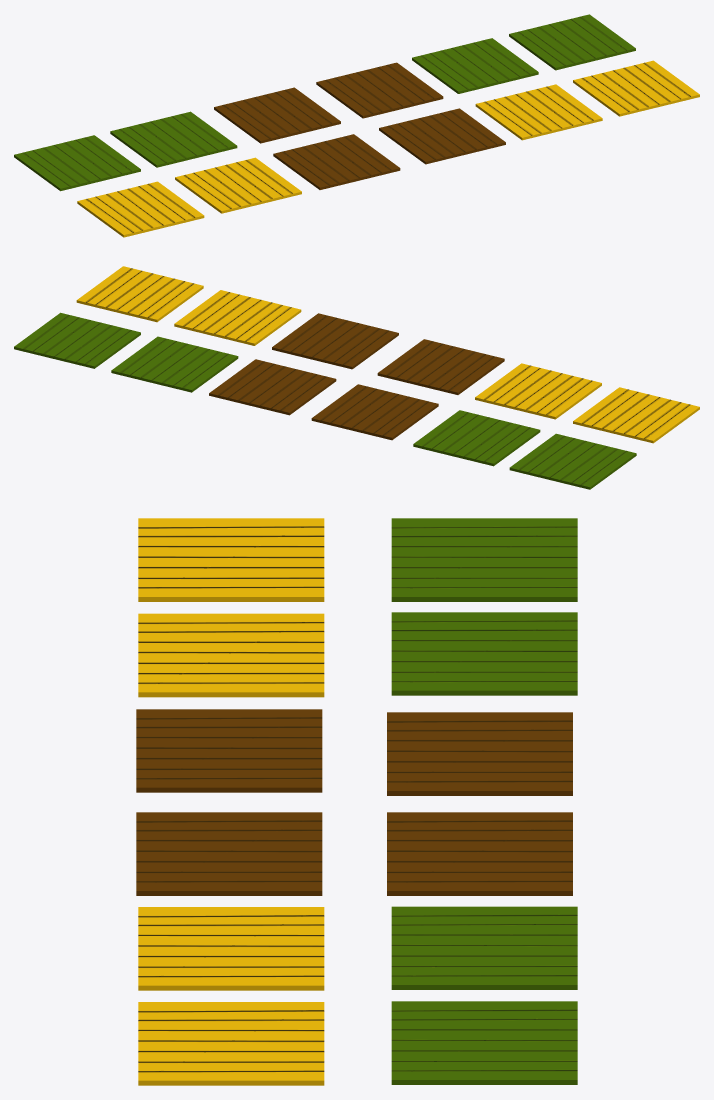
File: Cultivos.glb
The picture shows the model from 3 angles, top to bottom: view 1: azimuth 30°, elevation 25°; view 2: azimuth 150°, elevation 25°; view 3: azimuth 270°, elevation 25°; orthographic projection. The views are drawn at different scales.
Visible parts, largest first — view 1: Cultivo_Trigo.004, Cultivo_Trigo.002, Cultivo_Calabaza.004, Cultivo_Trigo.001, Cultivo_Calabaza.002, Cultivo_Trigo.003, Cultivo_Frijol.003, Cultivo_Frijol.005, Cultivo_Calabaza.003, Cultivo_Frijol.002, Cultivo_Calabaza.001, Cultivo_Frijol.004; view 2: Cultivo_Calabaza.004, Cultivo_Trigo.001, Cultivo_Trigo.002, Cultivo_Frijol.003, Cultivo_Frijol.004, Cultivo_Frijol.002, Cultivo_Calabaza.001, Cultivo_Calabaza.002, Cultivo_Frijol.005, Cultivo_Trigo.003, Cultivo_Calabaza.003, Cultivo_Trigo.004; view 3: Cultivo_Trigo.003, Cultivo_Trigo.001, Cultivo_Trigo.002, Cultivo_Trigo.004, Cultivo_Frijol.002, Cultivo_Frijol.003, Cultivo_Frijol.005, Cultivo_Calabaza.003, Cultivo_Calabaza.004, Cultivo_Frijol.004, Cultivo_Calabaza.001, Cultivo_Calabaza.002.
Boxes of the visible parts, box(x1,y1,x2,y2) form: Cultivo_Trigo.004: box(77, 181, 204, 237); Cultivo_Trigo.002: box(475, 84, 602, 140); Cultivo_Calabaza.004: box(273, 134, 400, 189); Cultivo_Trigo.001: box(573, 60, 699, 116); Cultivo_Calabaza.002: box(316, 62, 443, 118); Cultivo_Trigo.003: box(175, 157, 301, 213); Cultivo_Frijol.003: box(110, 111, 237, 167); Cultivo_Frijol.005: box(509, 14, 635, 70); Cultivo_Calabaza.003: box(379, 108, 505, 164); Cultivo_Frijol.002: box(14, 135, 140, 191); Cultivo_Calabaza.001: box(214, 87, 340, 143); Cultivo_Frijol.004: box(412, 38, 538, 93); Cultivo_Calabaza.004: box(377, 339, 504, 394); Cultivo_Trigo.001: box(76, 266, 203, 322); Cultivo_Trigo.002: box(174, 290, 301, 345); Cultivo_Frijol.003: box(413, 410, 540, 466); Cultivo_Frijol.004: box(111, 336, 238, 392); Cultivo_Frijol.002: box(509, 433, 636, 489); Cultivo_Calabaza.001: box(311, 384, 438, 440); Cultivo_Calabaza.002: box(209, 359, 336, 415); Cultivo_Frijol.005: box(14, 312, 140, 368); Cultivo_Trigo.003: box(475, 363, 601, 419); Cultivo_Calabaza.003: box(272, 313, 398, 369); Cultivo_Trigo.004: box(573, 387, 699, 443); Cultivo_Trigo.003: box(138, 613, 324, 697); Cultivo_Trigo.001: box(138, 1002, 324, 1085); Cultivo_Trigo.002: box(138, 907, 324, 990); Cultivo_Trigo.004: box(138, 518, 324, 601); Cultivo_Frijol.002: box(391, 518, 577, 601); Cultivo_Frijol.003: box(391, 612, 577, 695); Cultivo_Frijol.005: box(391, 1001, 577, 1084); Cultivo_Calabaza.003: box(136, 812, 322, 895); Cultivo_Calabaza.004: box(136, 709, 322, 792); Cultivo_Frijol.004: box(391, 906, 577, 989); Cultivo_Calabaza.001: box(387, 712, 572, 795); Cultivo_Calabaza.002: box(387, 812, 572, 895).
Bounding box in the file's own units: 143 × 0.5948 × 47.48.
3 materials, 3 textured.
